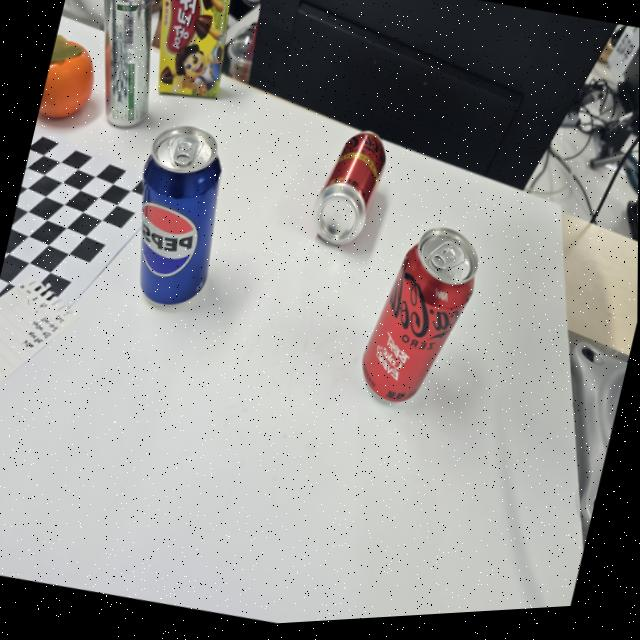can_coke_decaf: (310, 128, 387, 243)
can_coke_zero: (361, 226, 477, 401)
can_pepsi: (140, 127, 222, 303)
